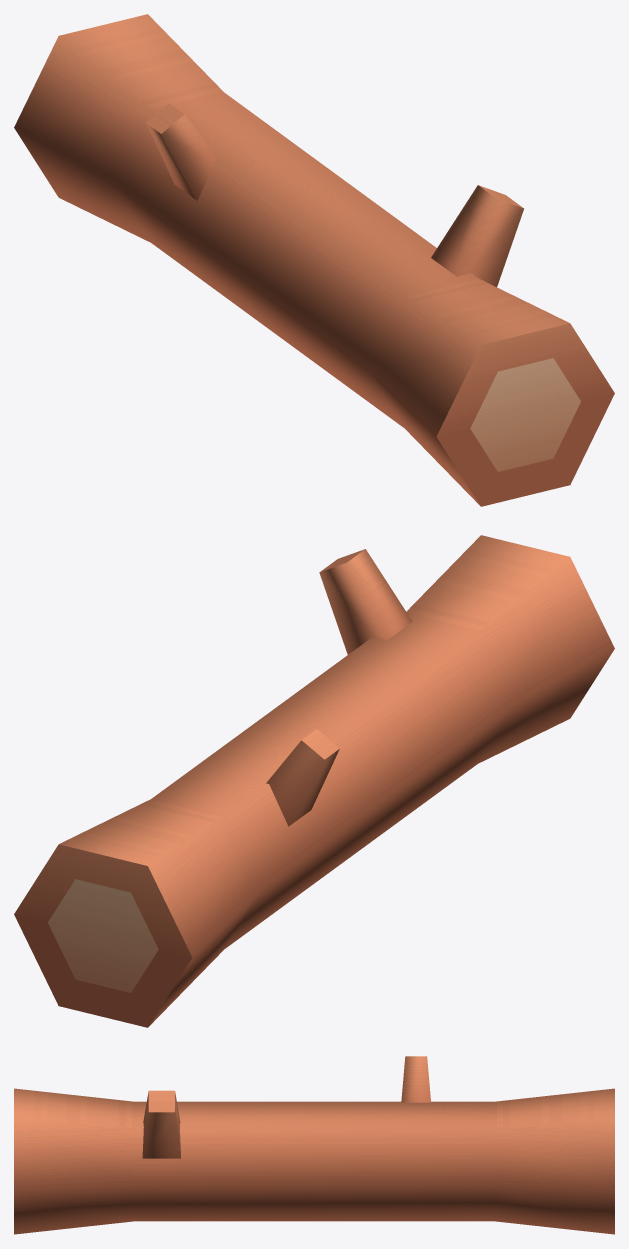
The model's file is tree-log.glb.
3 views of the same model, one above another, from view 1: azimuth 30°, elevation 25°; view 2: azimuth 150°, elevation 25°; view 3: azimuth 270°, elevation 25° (orthographic). The views are drawn at different scales.
Parts seen in each view (by area): view 1: tree-log; view 2: tree-log; view 3: tree-log.
Boxes of the visible parts, box(x1,y1,x2,y2) form: tree-log: box(14, 14, 614, 506); tree-log: box(14, 535, 614, 1027); tree-log: box(14, 1056, 614, 1234).
Bounding box in the file's own units: 0.2495 × 0.2771 × 1.
Materials: 1 (1 with a texture image).
